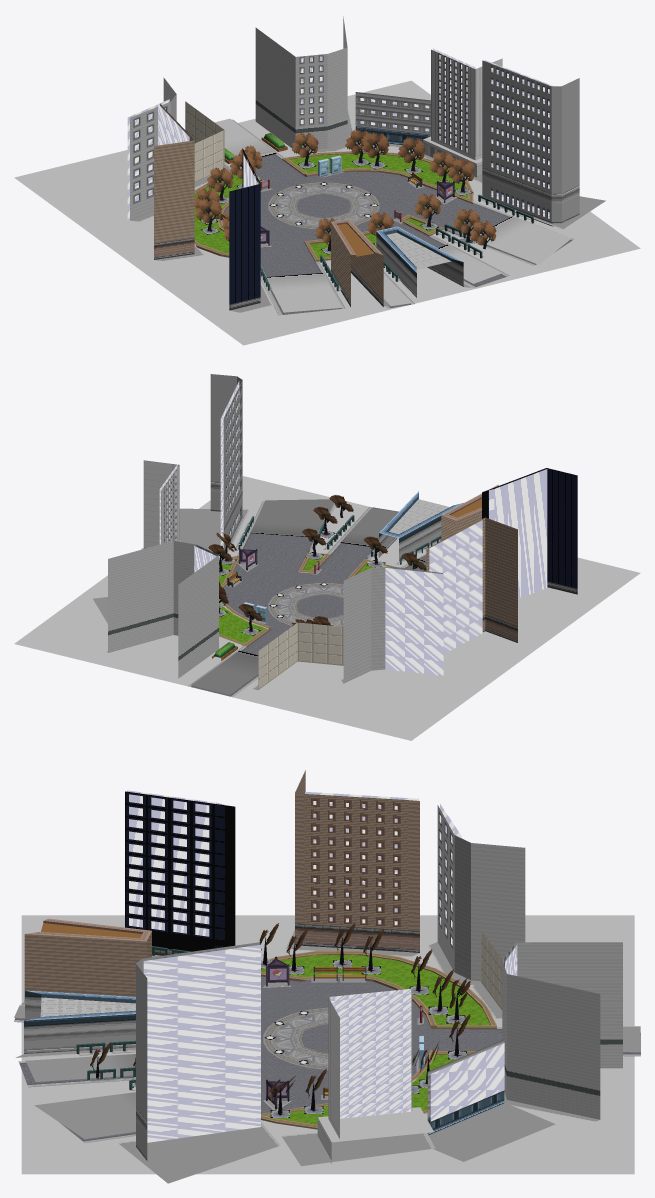
3 renders of one model, top to bottom at view 1: azimuth 30°, elevation 25°; view 2: azimuth 150°, elevation 25°; view 3: azimuth 270°, elevation 25°, orthographic. The views are drawn at different scales.
Visible parts, largest first — view 1: polygon13, polygon21, polygon8, polygon2, polygon19, polygon29, polygon12, polygon16, polygon17, polygon6, polygon9, polygon32 (+12 smaller); view 2: polygon13, polygon17, polygon8, polygon2, polygon29, polygon21, polygon12, polygon9, polygon18, polygon16, polygon7, polygon19 (+12 smaller); view 3: polygon17, polygon13, polygon8, polygon12, polygon7, polygon9, polygon2, polygon29, polygon32, polygon16, polygon6, polygon10 (+13 smaller).
Boxes of the visible parts, x1,y1,x2,y2 form: polygon13: [14, 80, 640, 345]; polygon21: [482, 60, 579, 221]; polygon8: [130, 16, 347, 220]; polygon2: [222, 156, 566, 313]; polygon19: [194, 129, 496, 251]; polygon29: [214, 118, 571, 312]; polygon12: [154, 103, 383, 300]; polygon16: [422, 49, 502, 177]; polygon17: [127, 48, 553, 218]; polygon6: [355, 92, 579, 297]; polygon9: [229, 148, 260, 304]; polygon32: [194, 153, 468, 258]; polygon13: [14, 476, 640, 740]; polygon17: [159, 381, 547, 675]; polygon8: [108, 540, 442, 683]; polygon2: [201, 509, 396, 693]; polygon29: [191, 499, 426, 694]; polygon21: [210, 374, 242, 550]; polygon12: [426, 485, 517, 626]; polygon9: [482, 468, 577, 588]; polygon18: [258, 622, 343, 689]; polygon16: [141, 460, 179, 549]; polygon7: [93, 508, 440, 690]; polygon19: [208, 495, 425, 630]; polygon17: [127, 790, 517, 1142]; polygon13: [21, 915, 634, 1174]; polygon8: [437, 805, 622, 1119]; polygon12: [24, 770, 419, 996]; polygon7: [15, 928, 599, 1183]; polygon9: [125, 791, 235, 951]; polygon2: [22, 977, 640, 1135]; polygon29: [14, 1005, 640, 1139]; polygon32: [261, 955, 490, 1124]; polygon16: [317, 989, 433, 1163]; polygon6: [24, 996, 504, 1133]; polygon10: [24, 918, 419, 1160].
Bounding box in the file's own units: 8.41 × 2.69 × 8.18.
